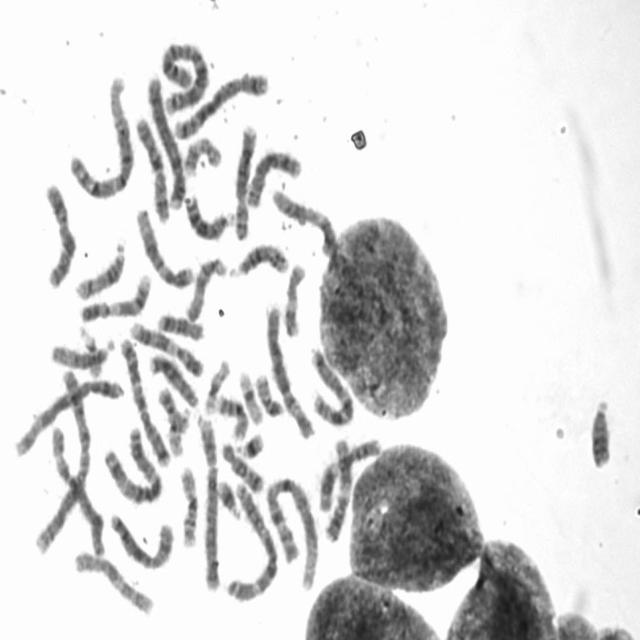A1: (65, 70, 137, 201), (262, 471, 321, 593)
A2: (31, 363, 94, 557), (157, 35, 210, 115)
A3: (222, 476, 281, 604), (100, 420, 164, 506)
B4: (144, 72, 187, 210), (194, 409, 222, 595)
B5: (10, 372, 125, 460), (171, 65, 271, 141)
C10: (72, 546, 157, 618), (131, 111, 171, 224)
C11: (316, 433, 383, 515), (321, 430, 354, 544)
C12: (132, 201, 196, 290), (268, 183, 338, 258)
C6: (47, 419, 108, 558), (261, 299, 315, 441)
C7: (118, 333, 172, 467), (307, 344, 356, 428)
C8: (243, 144, 302, 210), (231, 120, 259, 242)
C9: (128, 317, 206, 378), (76, 267, 154, 323)
D13: (145, 349, 201, 410), (586, 392, 614, 470)
D14: (72, 235, 127, 302), (227, 238, 291, 280)
D15: (182, 252, 228, 324), (48, 335, 114, 370)
E16: (177, 460, 200, 550), (213, 390, 249, 442)
E17: (280, 258, 308, 340), (180, 131, 223, 177)
E18: (218, 437, 266, 495), (155, 307, 206, 342)
F19: (201, 353, 233, 416), (236, 364, 266, 426)
F20: (155, 383, 191, 436), (252, 368, 286, 419)
G21: (214, 474, 242, 521), (234, 427, 266, 461)
G22: (76, 322, 104, 379), (166, 404, 191, 458)
X: (106, 506, 176, 573), (40, 178, 77, 290)
